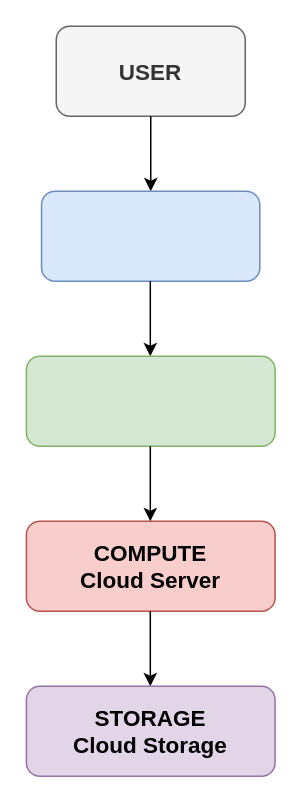
Some shapes in this 302 by 803 pixel diagram are drawn without their labels. The centre of each missing label's shape, as x and y in pixels:
INTERNET: (150,235)
NETWORK Cloud VPC: (150,400)
